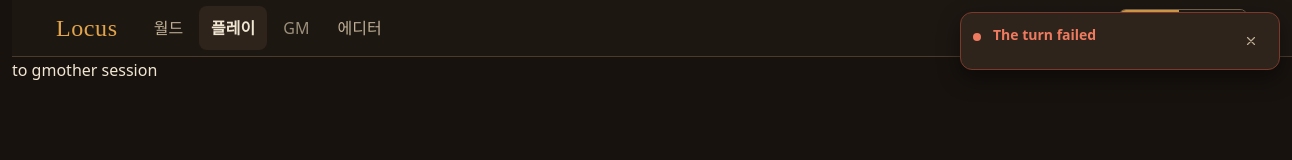
Test: AppShell › a screen's cards end with the screen (V2 review #8)
Expected: the text "The turn failed" is shown, [993,25,1096,44]
Click the link "other session": (107, 70) [56,59,157,81]
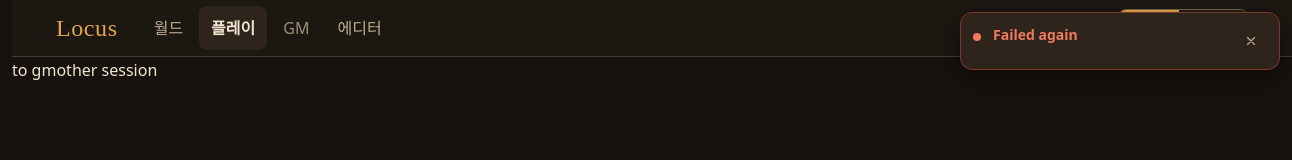
Now the text "The turn failed" is gone
Click the link "to gm": (34, 70) [12,59,56,81]
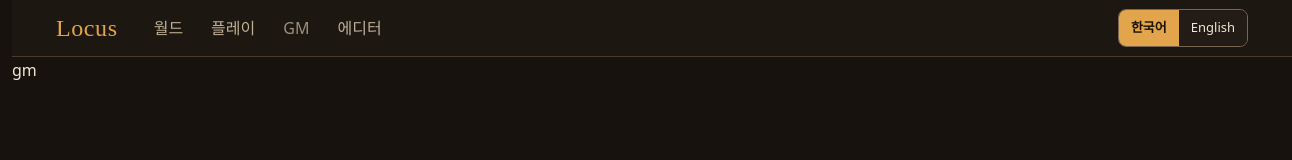
Expected: the text "gm" is shown, [12,59,37,81]
Now the text "Failed again" is gone
